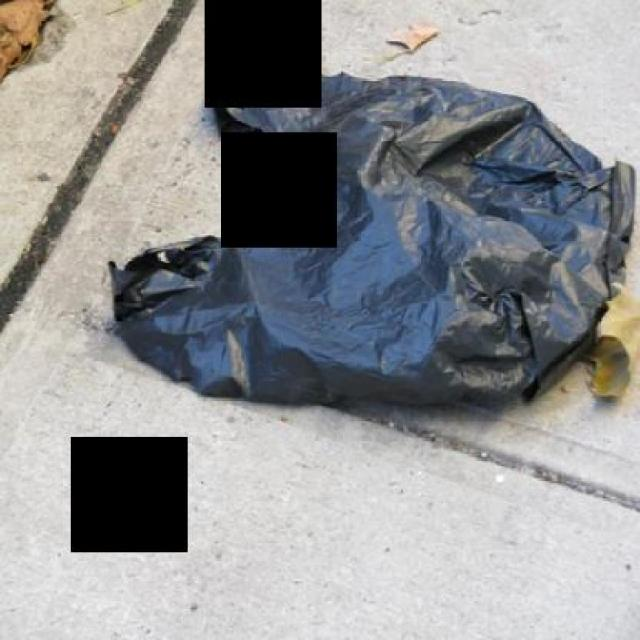plastic bag: (110, 57, 636, 414)
